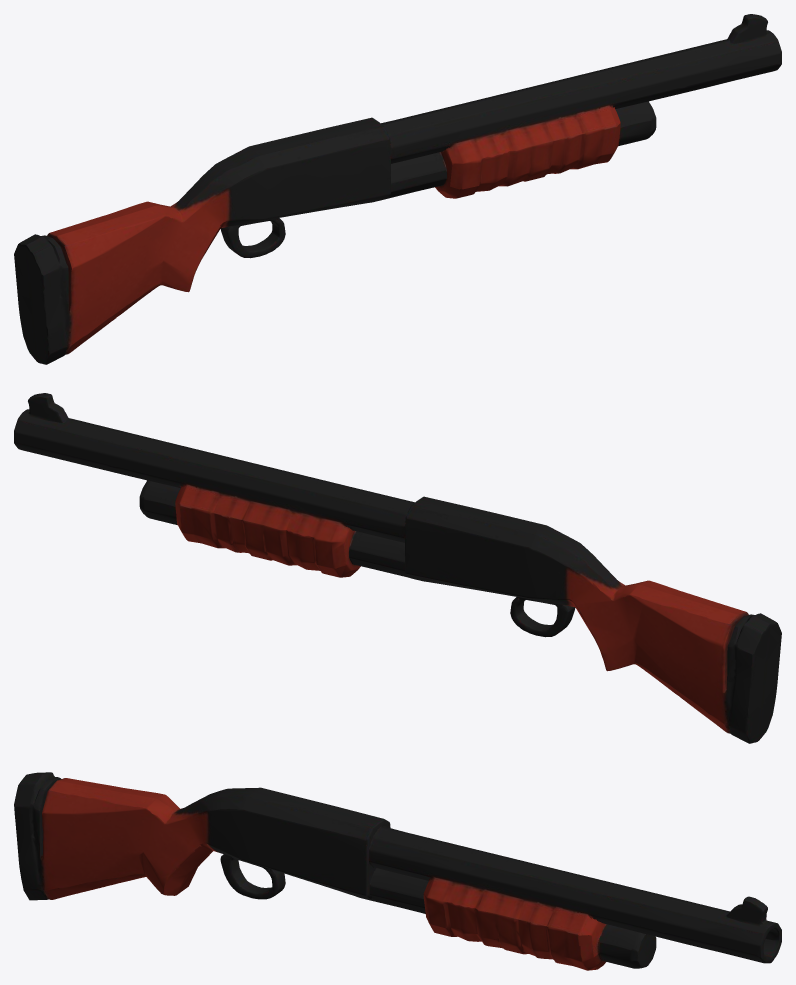
Rendered from pump_action_shotgun.glb.
3 views of the same model, one above another, from view 1: azimuth 30°, elevation 25°; view 2: azimuth 150°, elevation 25°; view 3: azimuth 330°, elevation 25° (orthographic).
Visible parts, largest first — view 1: world; view 2: world; view 3: world.
Part boxes in pixels (x1,y1,x2,y2): world: (14,14,781,364); world: (14,393,781,743); world: (14,772,781,970).
Size of the model in its own units: 1 by 0.2231 by 0.0891.
Materials: 1 (1 with a texture image).
